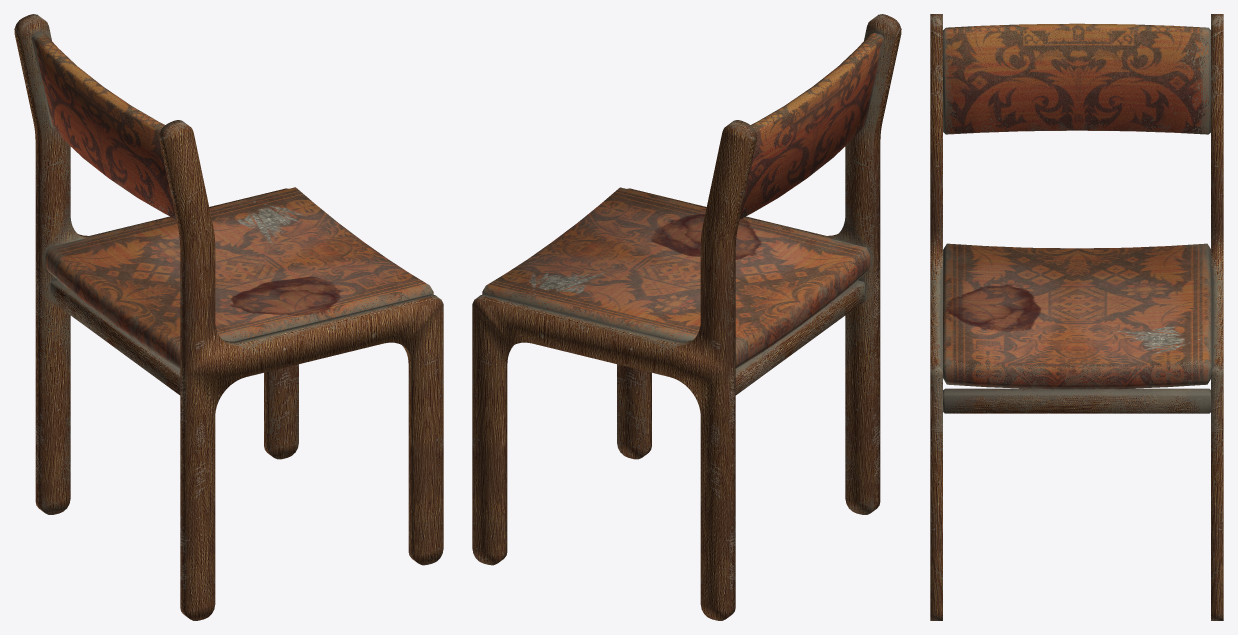
File: soviet_chair.glb
3 views of the same model, side by side, from view 1: azimuth 30°, elevation 25°; view 2: azimuth 150°, elevation 25°; view 3: azimuth 270°, elevation 25° (orthographic). The views are drawn at different scales.
Size of the model in its own units: 1.68 by 2.89 by 1.58.
Materials: 1 (1 with a texture image).
